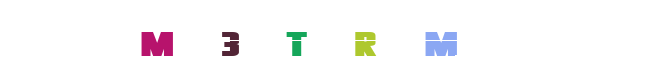3: (256, 0, 336, 80)
M: (140, 0, 220, 80), (381, 0, 461, 80)
R: (324, 0, 404, 80)
T: (283, 0, 363, 80)
